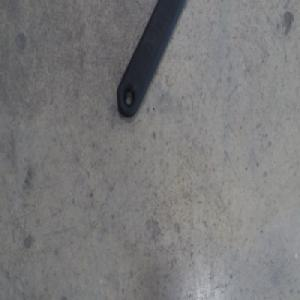AdjustableWrench: (116, 0, 180, 117)
